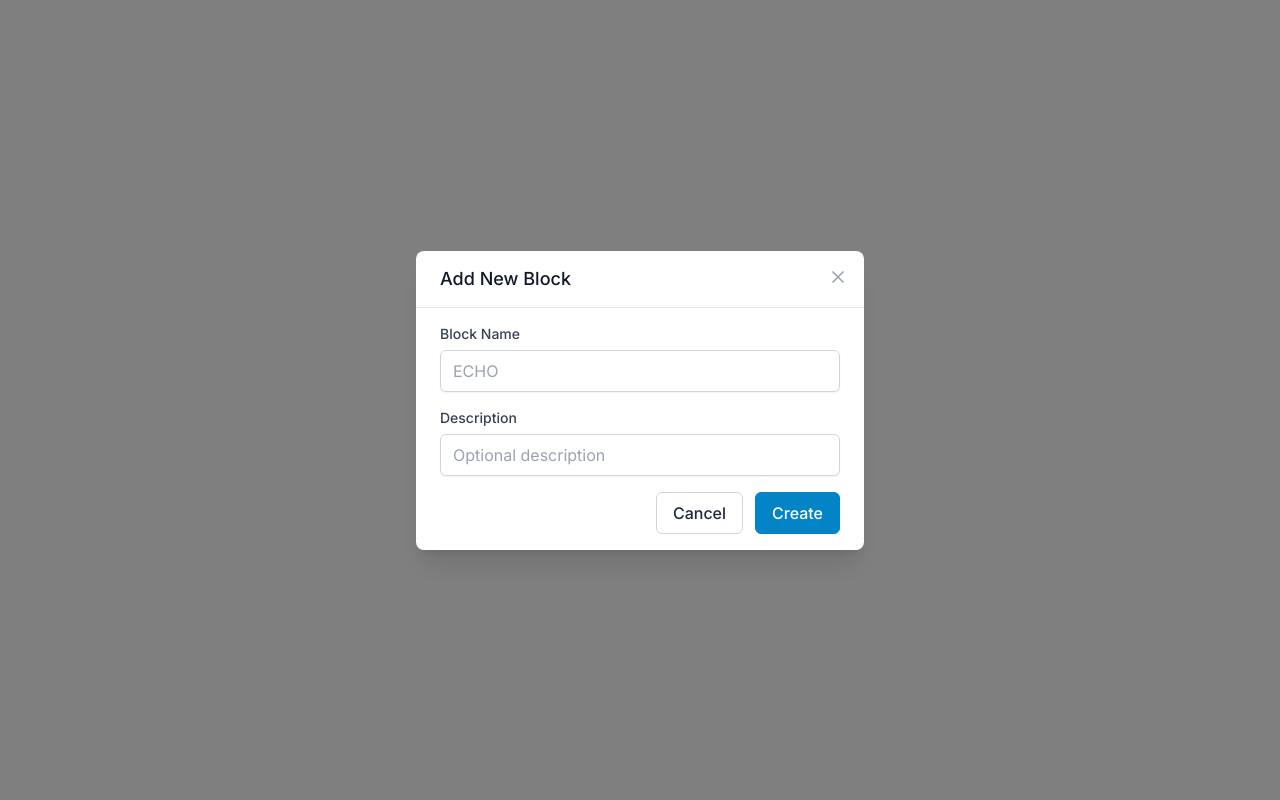
it: EditBlockModal Component › validates form inputs and shows errors when required fields are missing
# Submit form without filling required fields
What coordinates should you click on to do the following:
click the button "Create"
I would click on:
 (798, 512)
Its box is [755,492,840,534].
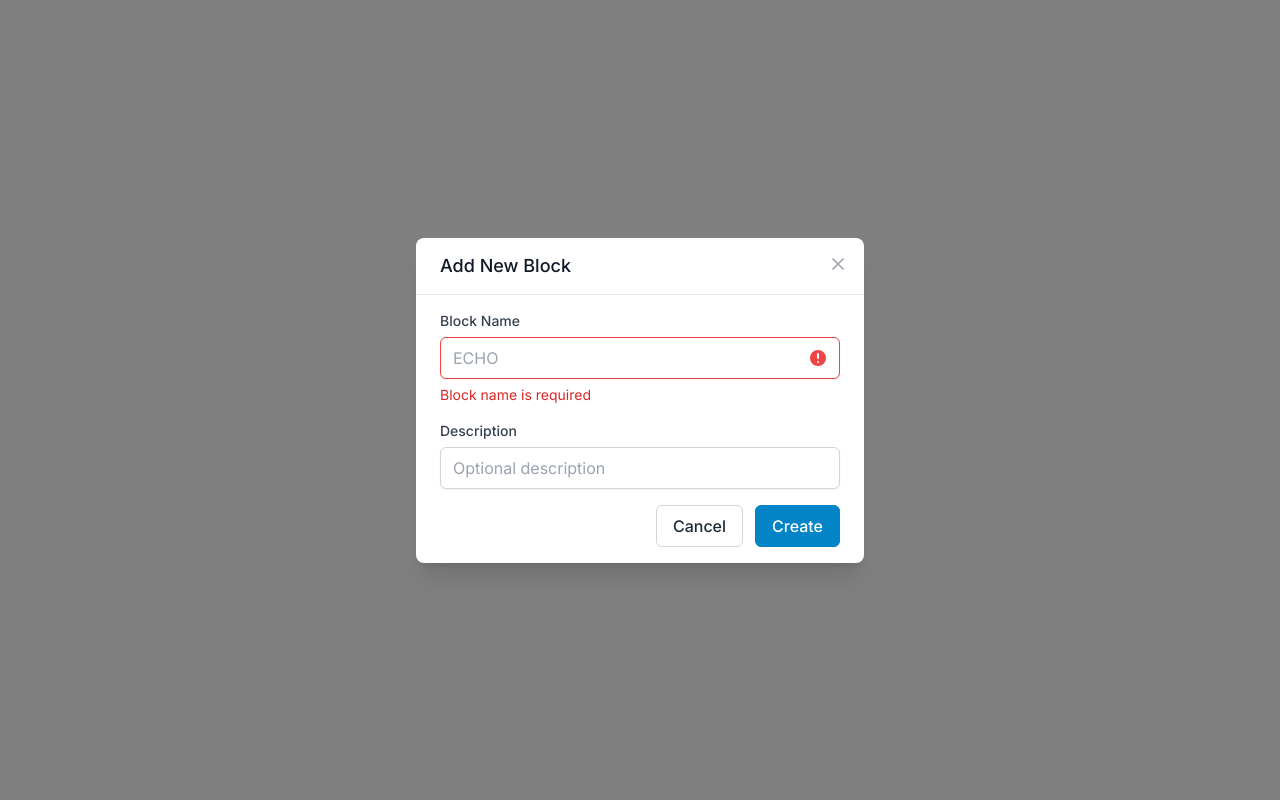
expect the text "Block name is required" is shown: met, box [440,386,591,402]
